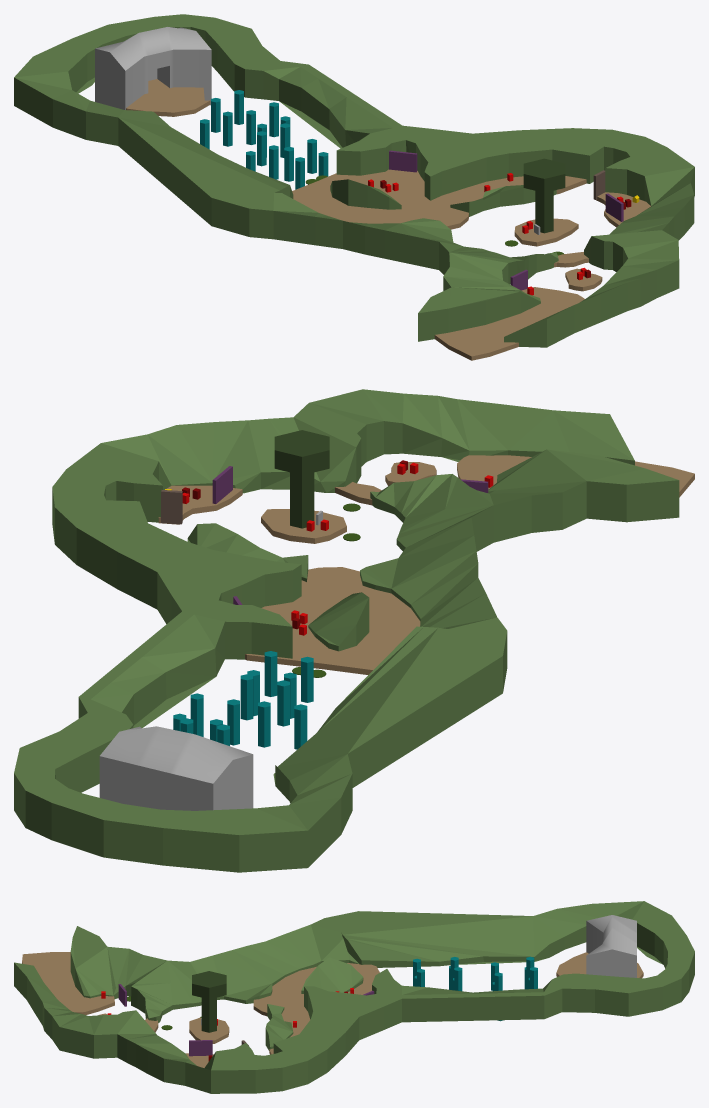
Rendered from Water_Level.fbx.
The picture shows the model from 3 angles, top to bottom: view 1: azimuth 30°, elevation 25°; view 2: azimuth 150°, elevation 25°; view 3: azimuth 270°, elevation 25°; orthographic projection. The views are drawn at different scales.
Visible parts, largest first — view 1: polySurface1, polySurface2, pCube23, pCylinder5, pCube4; view 2: polySurface1, polySurface2, pCube23, pCylinder5, pCube7; view 3: polySurface1, polySurface2, pCube23, pCylinder5, pCube2.
Boxes of the visible parts, x1,y1,x2,y2 form: polySurface1: (14,14,694,347); polySurface2: (126,79,650,360); pCube23: (95,27,211,109); pCylinder5: (523,158,565,233); pCube4: (389,150,417,172); polySurface1: (14,389,679,872); polySurface2: (158,455,694,674); pCube23: (99,726,253,810); pCylinder5: (274,430,329,528); pCube7: (161,490,182,524); polySurface1: (14,901,694,1093); polySurface2: (22,952,643,1067); pCube23: (586,915,636,977); pCylinder5: (192,971,226,1032); pCube2: (189,1040,212,1056).
Size of what is drawn, in the model's own units: 30.83 by 6.28 by 52.42.
